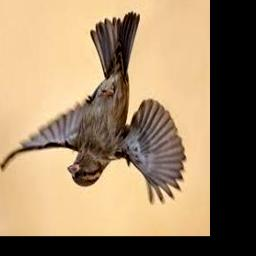Sparrow: (0, 12, 185, 204)
